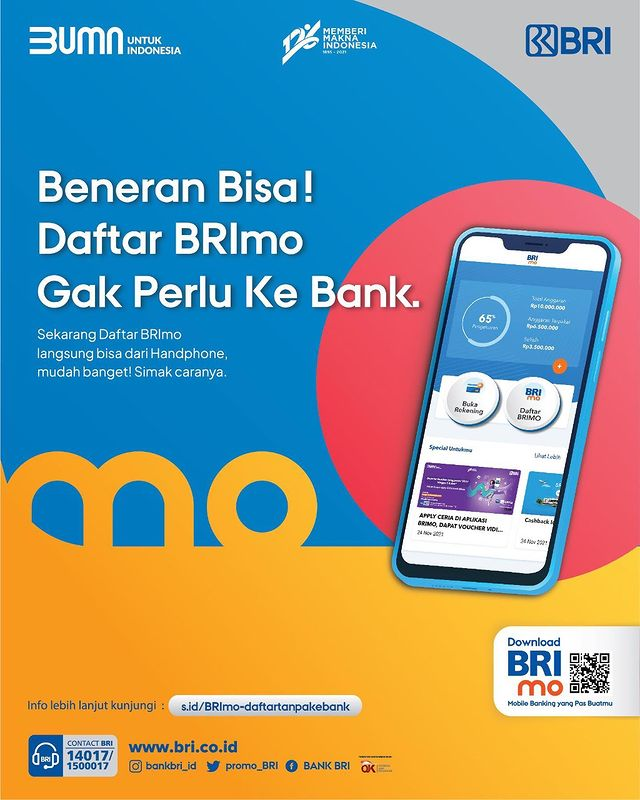ojk: (359, 759, 394, 775)
